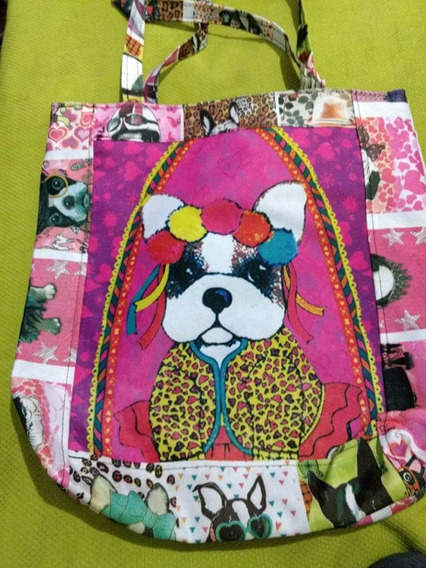cartera: (9, 2, 426, 548)
